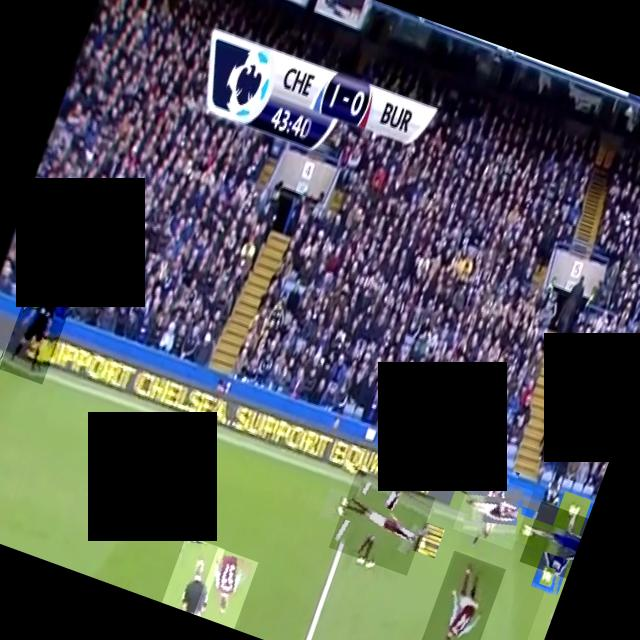ball: (538, 564, 556, 586)
referee: (0, 263, 79, 383), (161, 534, 224, 617)
soccer-player: (328, 468, 434, 574), (421, 549, 505, 640), (452, 468, 533, 550), (518, 500, 588, 578), (192, 546, 258, 628), (513, 561, 570, 640)
